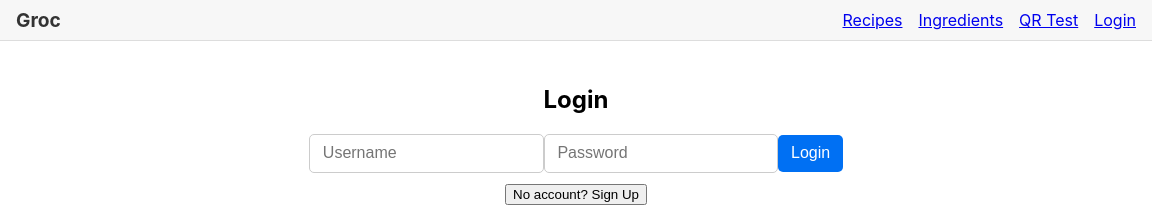
Test: login success redirects to recipes
Type "user" into the field with placeholder "Username" at (426, 153), box left=309, top=134, right=544, bottom=173
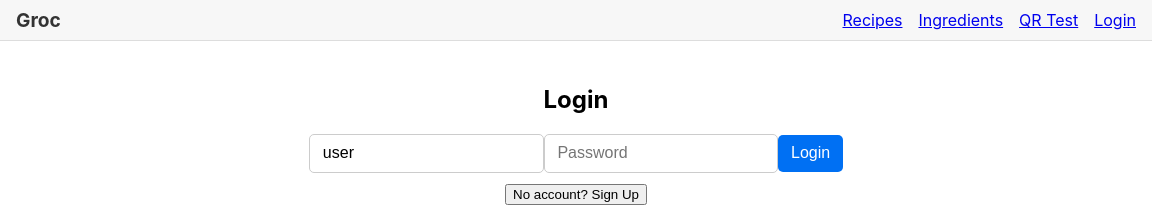
Type "pass" into the password field with placeholder "Password" at (661, 153), box left=544, top=134, right=778, bottom=173
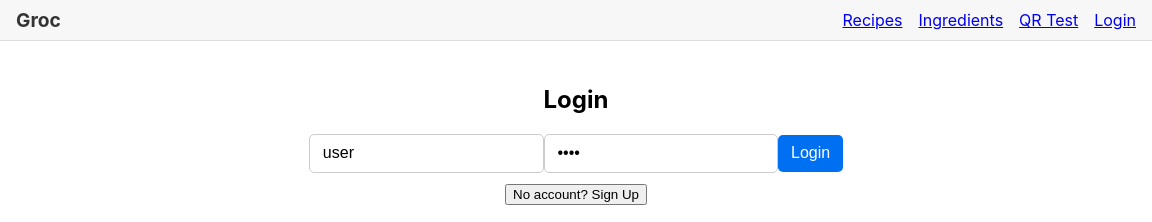
Click the button "Login" at (811, 153), box left=778, top=135, right=843, bottom=172
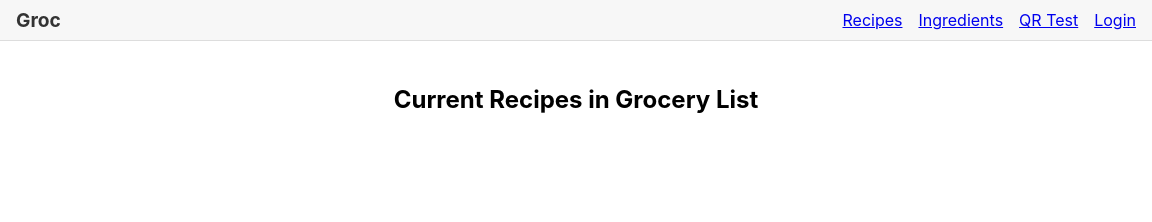
Check: the heading "Current Recipes in Grocery List" is shown, box left=394, top=85, right=758, bottom=114
